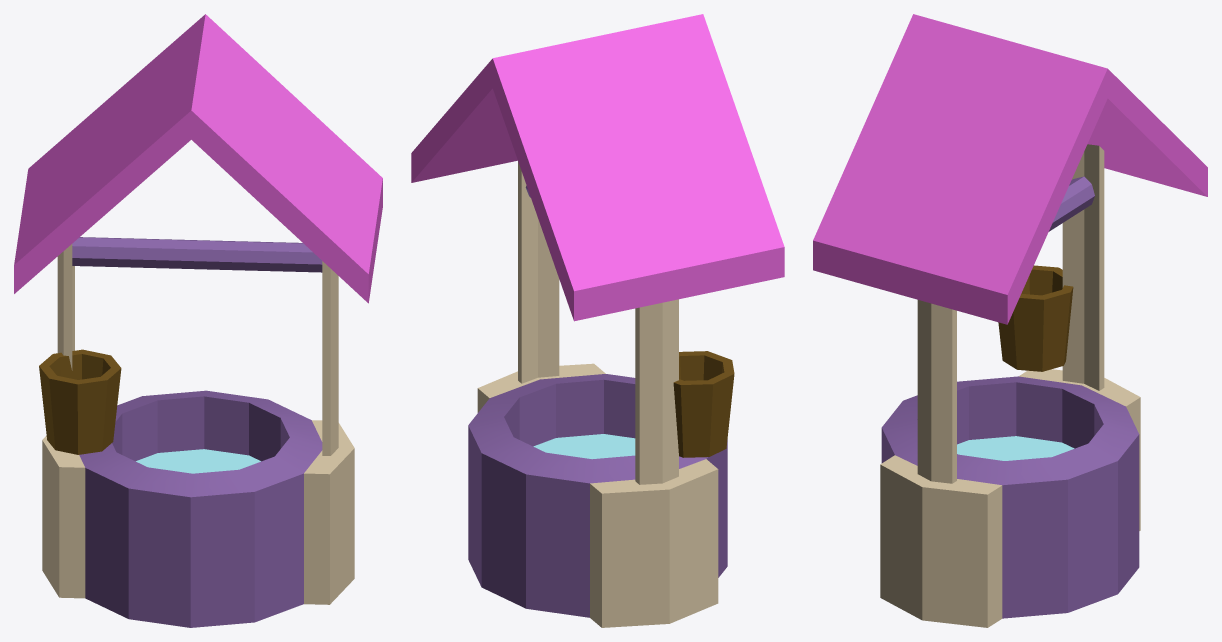
File: Asset_RessForest_Well.fbx
3 views of the same model, side by side, from view 1: azimuth 30°, elevation 25°; view 2: azimuth 150°, elevation 25°; view 3: azimuth 270°, elevation 25° (orthographic). The views are drawn at different scales.
Visible parts, largest first — view 1: structure_puit1, sceau1, eau2; view 2: structure_puit1, sceau1, eau2; view 3: structure_puit1, sceau1, eau2.
Boxes of the visible parts, x1,y1,x2,y2 form: structure_puit1: [14, 14, 382, 627]; sceau1: [39, 349, 121, 454]; eau2: [136, 449, 260, 473]; structure_puit1: [411, 14, 784, 627]; sceau1: [673, 351, 734, 457]; eau2: [533, 434, 635, 459]; structure_puit1: [813, 14, 1207, 627]; sceau1: [998, 265, 1073, 371]; eau2: [957, 436, 1074, 460].
Bounding box in the file's own units: 54.22 × 73.81 × 49.66.
